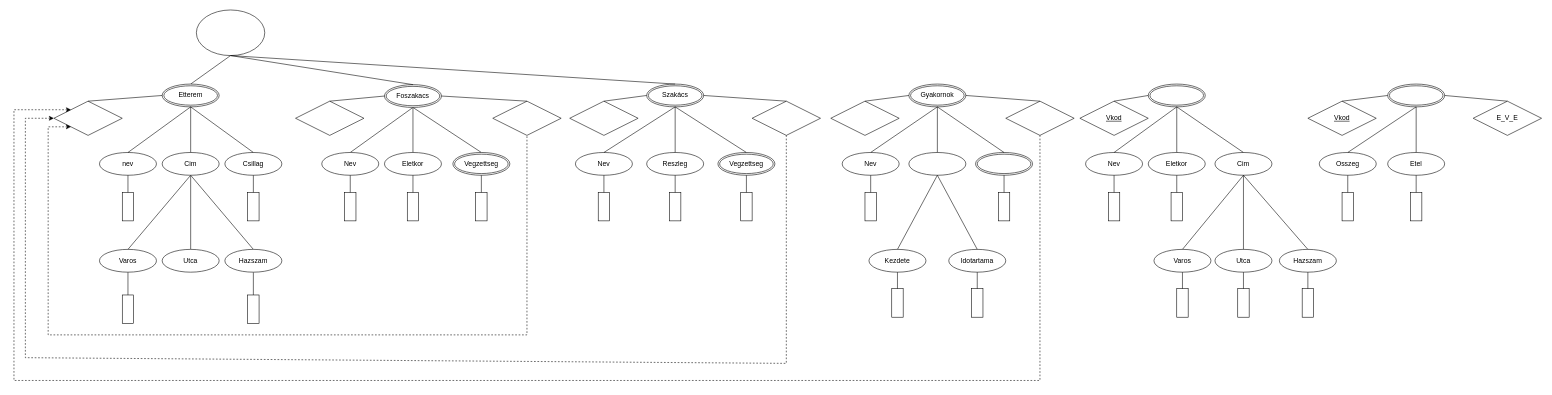
The diagram is 1552 pixels wide and 395 high, and some of its shapes have lost their labels. Here are the shapes that lost their labels. From the top down, the centre of each, then its label:
At (x=230, y=32): "Vendeglatas".
At (x=1176, y=95): "Vendeg".
At (x=1416, y=95): "Rendelés".
At (x=87, y=118): "Ekod".
At (x=329, y=118): "Fkod".
At (x=526, y=118): "E_F".
At (x=603, y=118): "Szkod".
At (x=786, y=118): "E_sz".
At (x=864, y=118): "Gykod".
At (x=1039, y=118): "E_GY".
At (x=937, y=163): "Gyakorlat".
At (x=1004, y=163): "Muszak".
